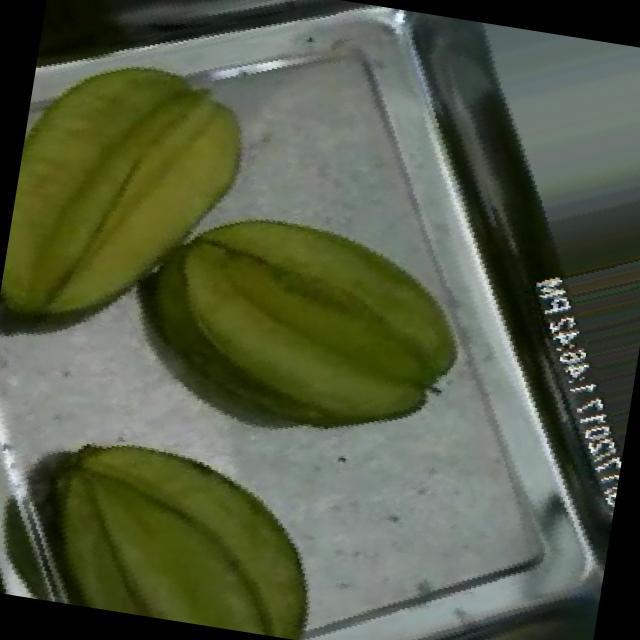fruit: (106, 124, 520, 506), (0, 3, 309, 394), (0, 377, 375, 640)
